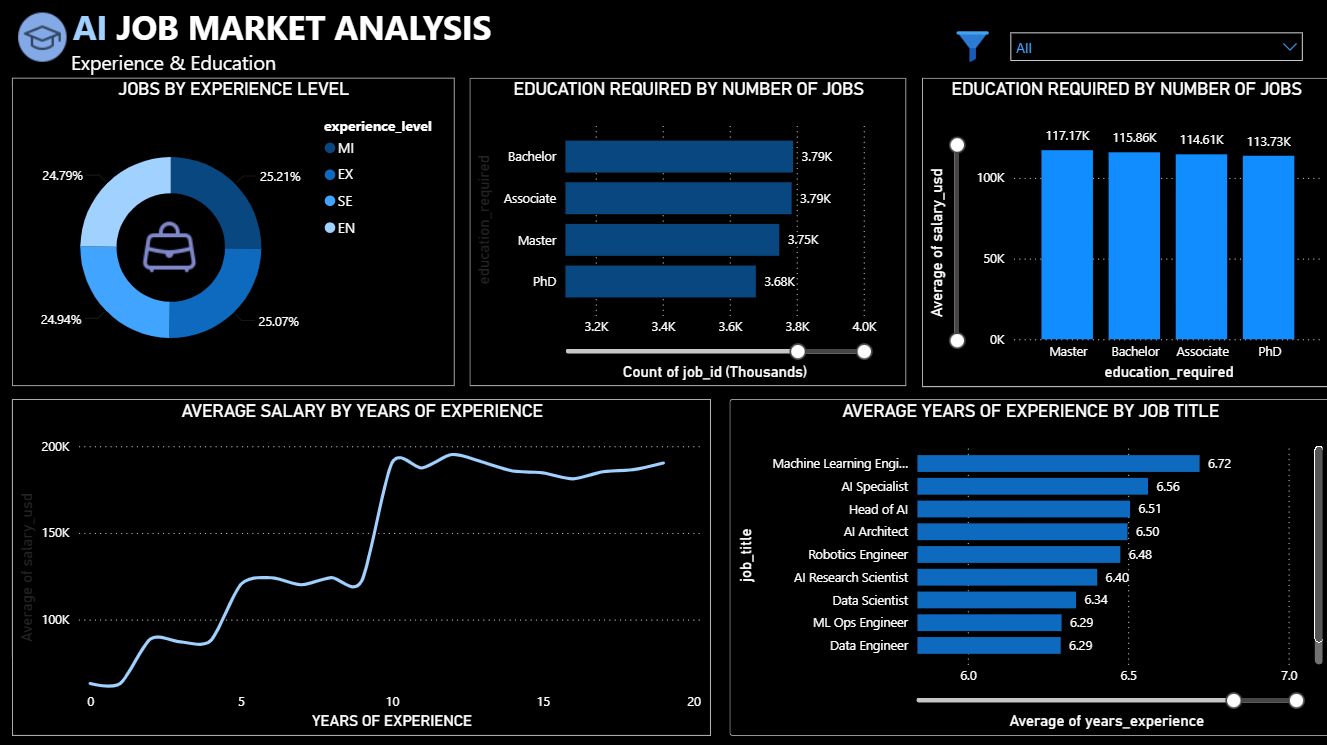

The page's visual inventory and layout, read from the dashboard file:
{"tool":"powerbi","page":{"name":"Experience & Education","canvas":[1280,720],"ordinal":2},"visuals":[{"type":"textbox","box":[13.7,0,533.8,97.4],"z":0},{"type":"slicer","fields":{"Values":["ai_job_dataset.job_title"]},"box":[955.1,22,299.1,53.5],"z":1000},{"type":"donutChart","title":"JOBS BY EXPERIENCE LEVEL","fields":{"Category":["ai_job_dataset.experience_level"],"Y":["CountNonNull(ai_job_dataset.job_id)"]},"box":[13.7,75.5,421.3,293.7],"z":2000},{"type":"clusteredBarChart","title":"EDUCATION REQUIRED BY NUMBER OF JOBS","fields":{"Category":["ai_job_dataset.education_required"],"Y":["CountNonNull(ai_job_dataset.job_id)"]},"box":[450.1,75.5,415.8,293.7],"z":3000},{"type":"clusteredColumnChart","title":"EDUCATION REQUIRED BY NUMBER OF JOBS","fields":{"Category":["ai_job_dataset.education_required"],"Y":["Avg(ai_job_dataset.salary_usd)"]},"box":[881,75,388.1,294],"z":4000},{"type":"lineChart","title":"AVERAGE SALARY BY YEARS OF EXPERIENCE","fields":{"Category":["ai_job_dataset.years_experience"],"Y":["Avg(ai_job_dataset.salary_usd)"]},"box":[13.7,381.5,665.5,321.1],"z":5000},{"type":"clusteredBarChart","title":"AVERAGE YEARS OF EXPERIENCE BY JOB TITLE","fields":{"Category":["ai_job_dataset.job_title"],"Y":["Avg(ai_job_dataset.years_experience)"]},"box":[697.1,381.5,572.2,321.1],"z":6000},{"type":"image","box":[0,9.6,86.4,53.5],"z":7000},{"type":"image","box":[131.7,207.2,64.5,59],"z":8000},{"type":"image","box":[903.6,26.2,50.8,37],"z":9000}]}

Visuals, with their boxes in screenshot pixels (x1, y1, x2, y2), scaled from the page's 1280x720 canvas onto the 1327x745 screenshot:
textbox: box=[14, 0, 568, 101]
slicer - ai_job_dataset.job_title: box=[990, 23, 1300, 78]
"JOBS BY EXPERIENCE LEVEL" donutChart: box=[14, 78, 451, 382]
"EDUCATION REQUIRED BY NUMBER OF JOBS" clusteredBarChart: box=[467, 78, 898, 382]
"EDUCATION REQUIRED BY NUMBER OF JOBS" clusteredColumnChart: box=[913, 78, 1316, 382]
"AVERAGE SALARY BY YEARS OF EXPERIENCE" lineChart: box=[14, 395, 704, 727]
"AVERAGE YEARS OF EXPERIENCE BY JOB TITLE" clusteredBarChart: box=[723, 395, 1316, 727]
image: box=[0, 10, 90, 65]
image: box=[137, 214, 203, 275]
image: box=[937, 27, 989, 65]
